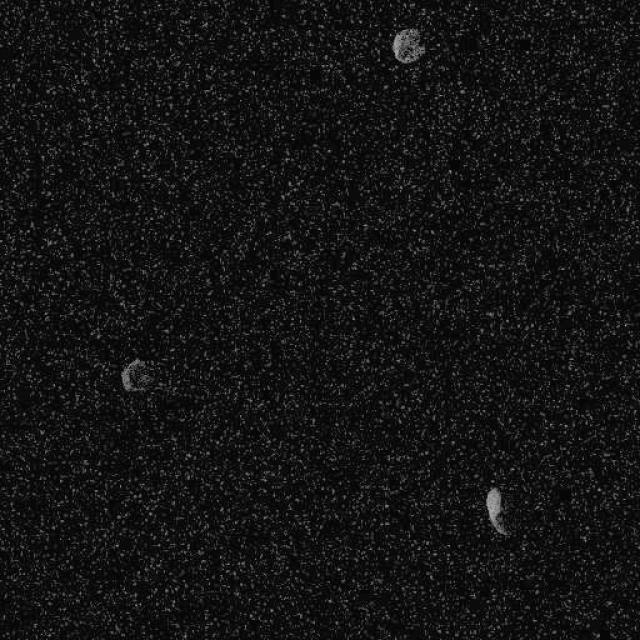D2: (391, 26, 425, 64), (484, 485, 508, 536), (120, 358, 155, 392)
